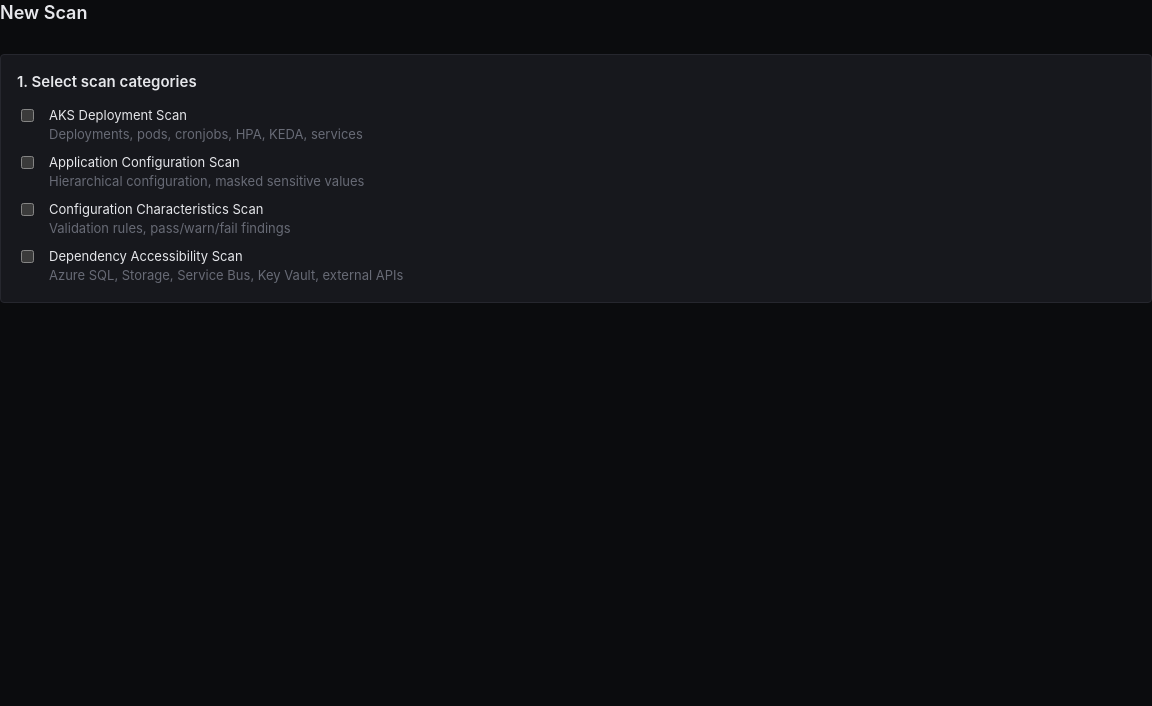
Test: NewScanPage (flows 4/5/7: start scan, view results, drill down) › runs the selected scan and renders results with a working drill-down
The image size is (1152, 706).
Click the checkbox labelled "AKS Deployment Scan" at [28, 115], box 21,108 -> 34,122
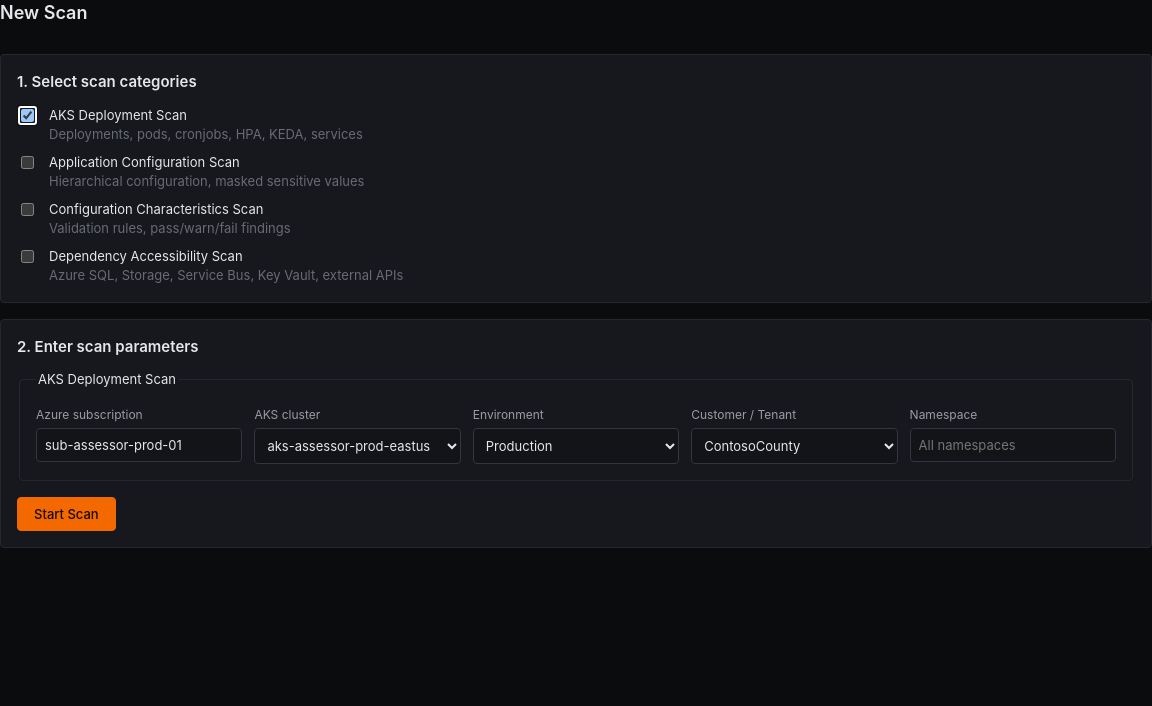
Click the button "Start Scan" at [66, 514], box 17,496 -> 116,530
(page scrolled)
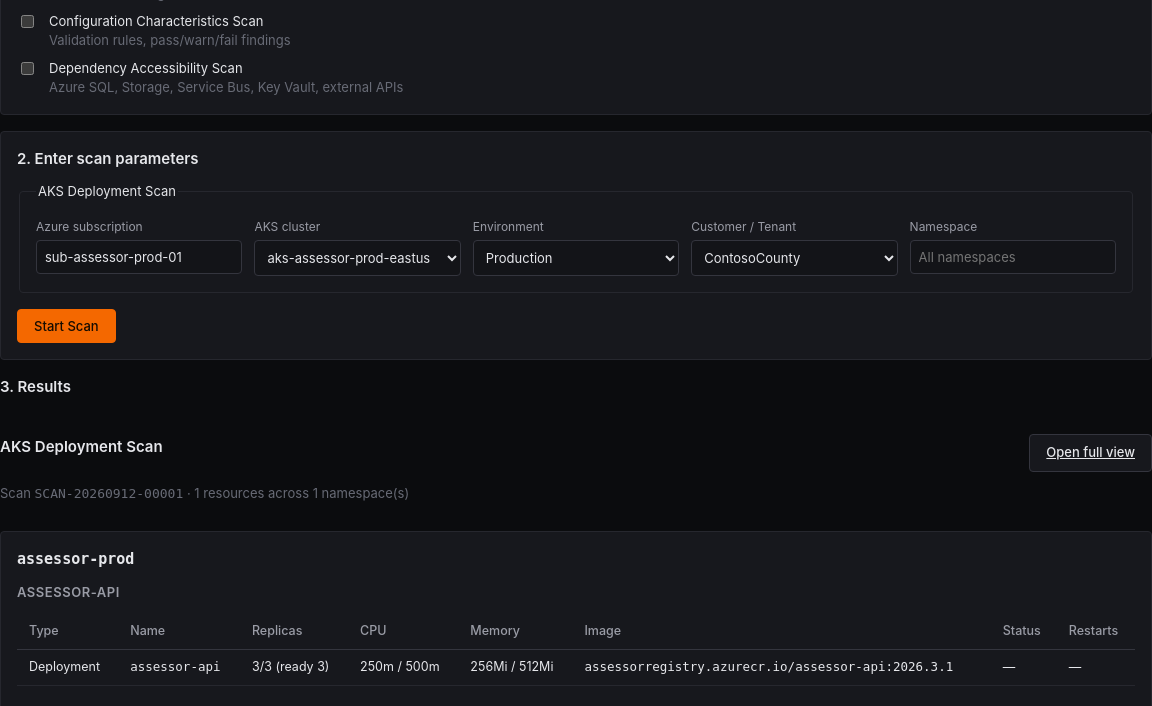
expect the text "SCAN-20260912-00001" is shown: met, box 34,486 -> 183,500
expect the text "assessor-api" is shown: met
# Drill down: click the resource row, expect the drawer with full detail to open.
Click the text "assessor-api" at [179, 667], box 118,649 -> 240,685
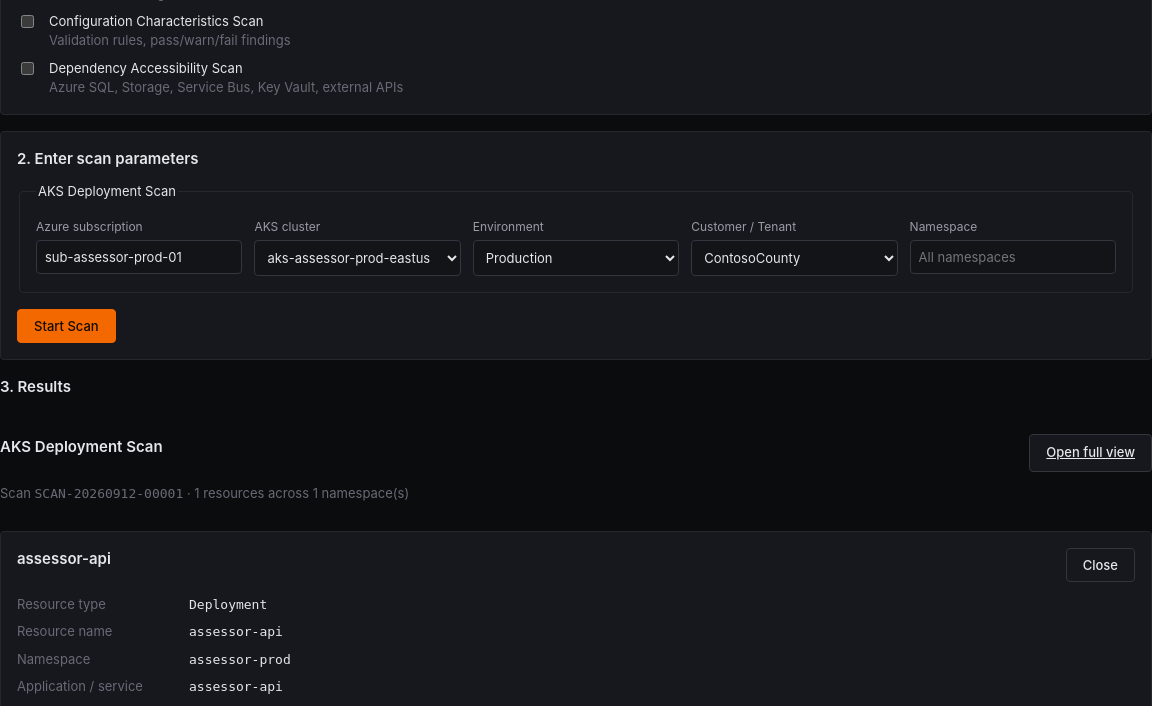
expect the heading "assessor-api" is shown: met, box 17,548 -> 111,570
expect the text "Resource type" is shown: met, box 17,596 -> 106,612
